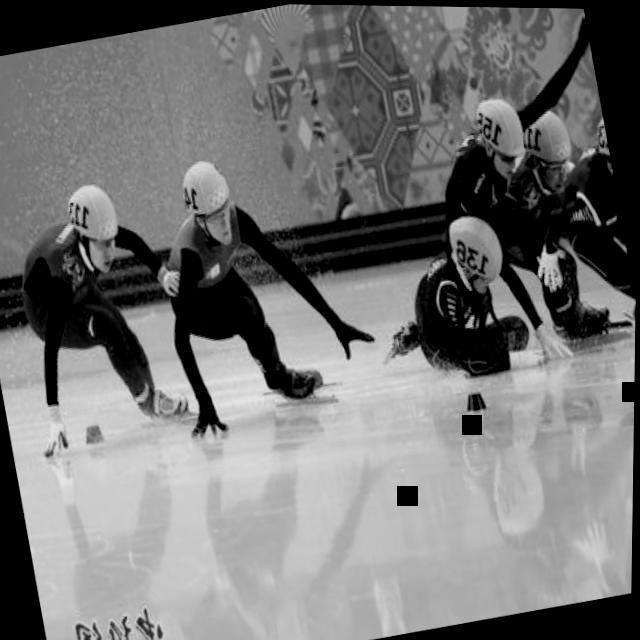Fall-Detected: (358, 195, 574, 402)
